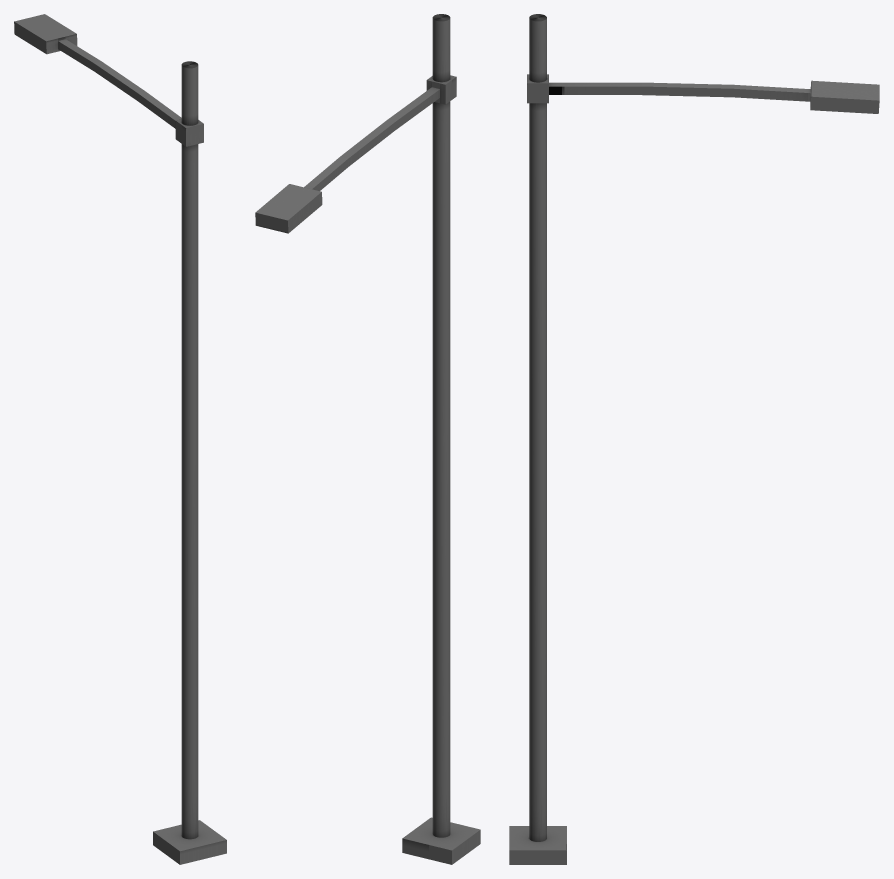
File: streetLamp.glb
The picture shows the model from 3 angles, left to right: view 1: azimuth 30°, elevation 25°; view 2: azimuth 150°, elevation 25°; view 3: azimuth 270°, elevation 25°; orthographic projection. The views are drawn at different scales.
Visible parts, largest first — view 1: Cylinder; view 2: Cylinder; view 3: Cylinder.
Boxes of the visible parts, x1=… form: Cylinder: x1=14, y1=14, x2=226, y2=864; Cylinder: x1=255, y1=14, x2=480, y2=864; Cylinder: x1=509, y1=14, x2=879, y2=864.
Size of what is drawn, in the model's own units: 0.5024 by 8.03 by 3.23.
1 material, 1 textured.
